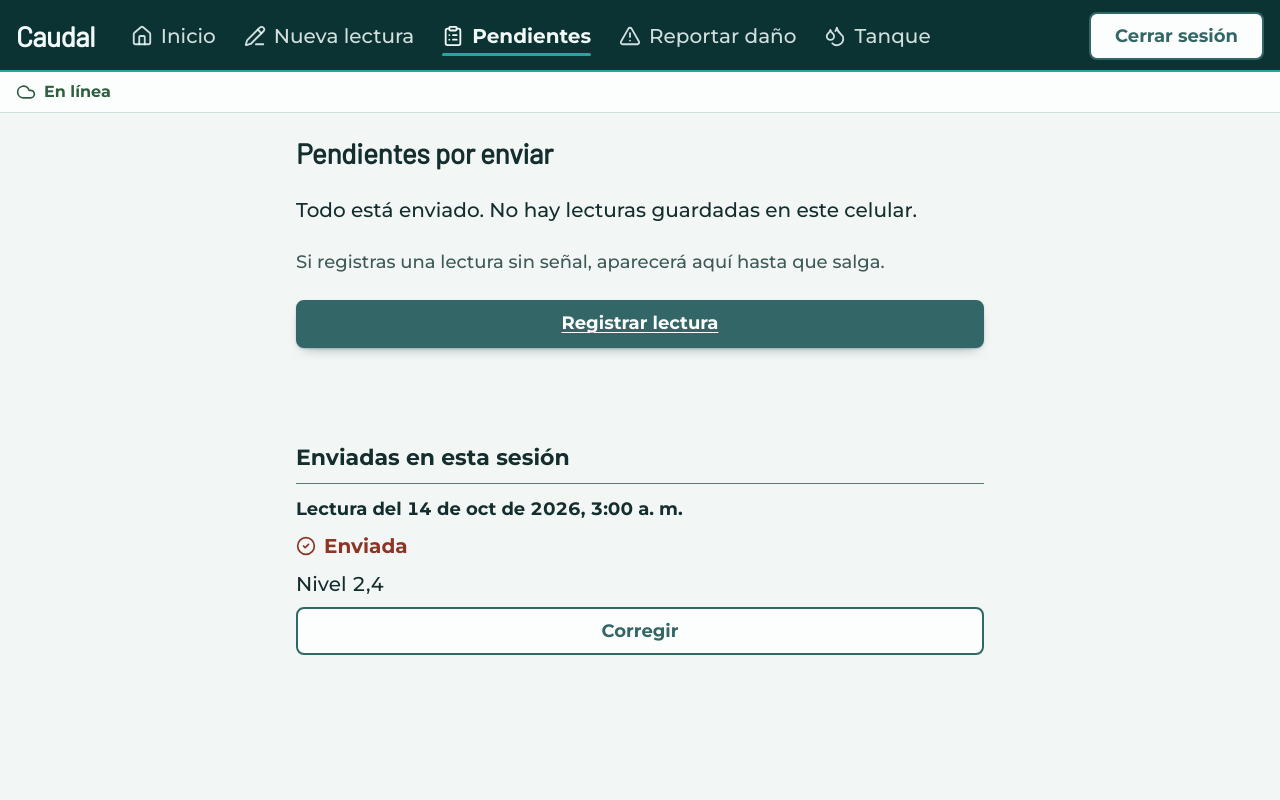
Test case: SentReadingRow: correcting a reading the server has › arms the correction with the reason limits the server sends under "reason"
This screenshot has width=1280, height=800.
Click the button "Corregir".
click(640, 631)  # box [296,607,984,655]
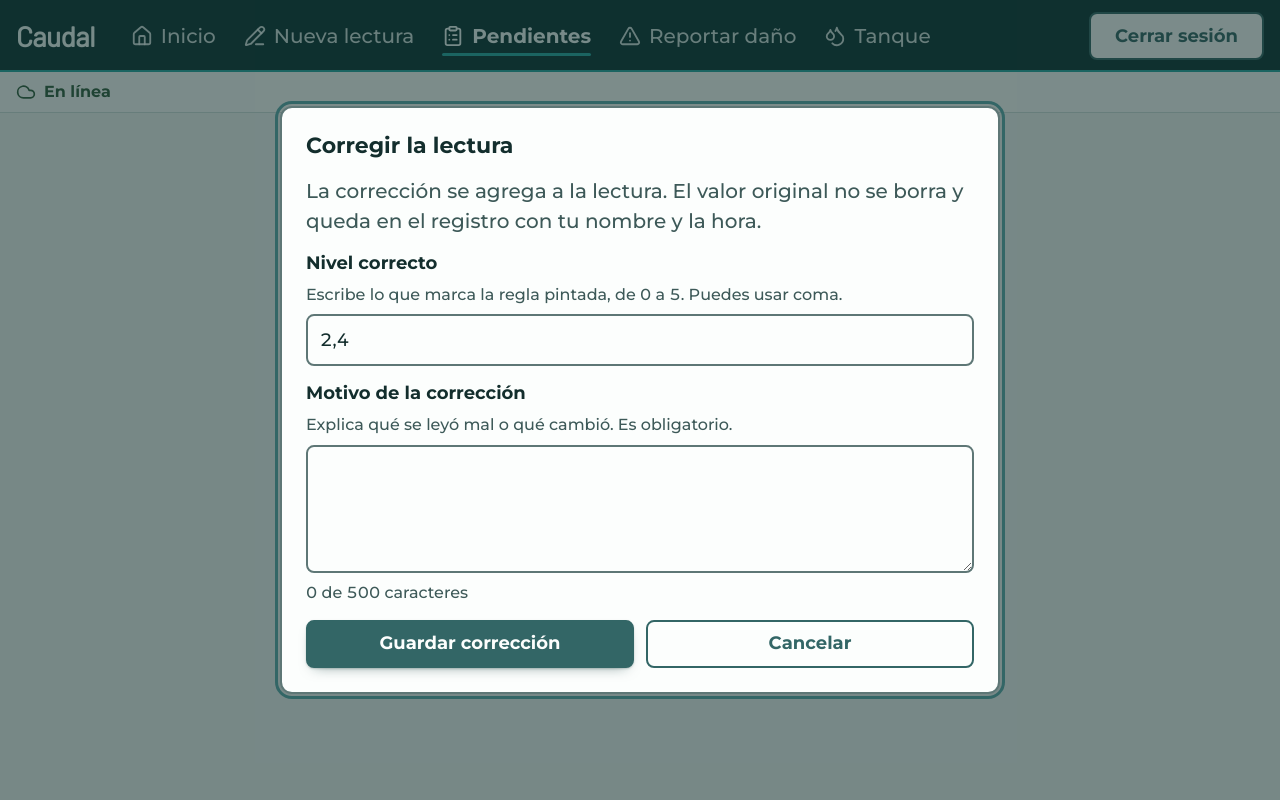
Expected: the text box labelled "Motivo de la corrección" is shown, [306,445,974,573]
